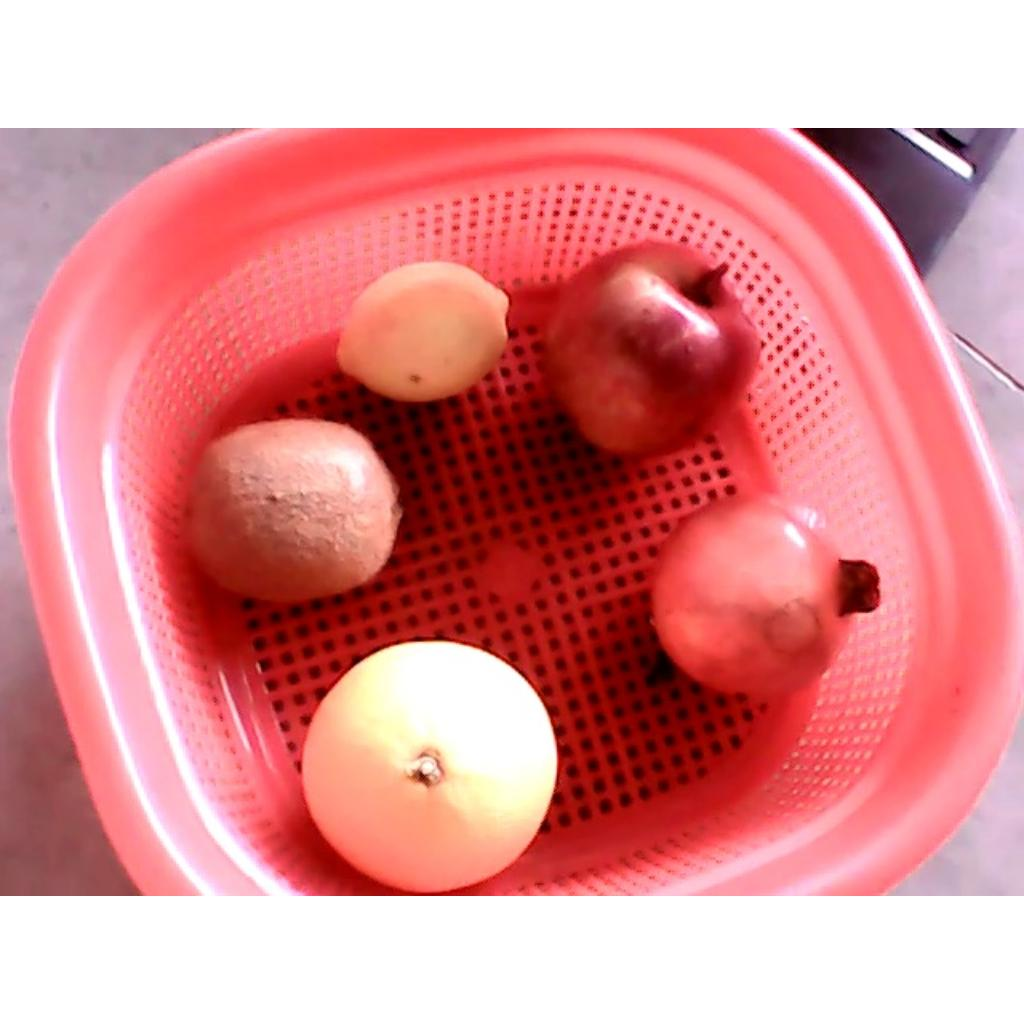apple: (542, 238, 762, 460)
kiwi: (187, 418, 403, 603)
lemon: (337, 263, 511, 404)
orange: (301, 640, 558, 894)
pomegranate: (650, 491, 881, 694)
